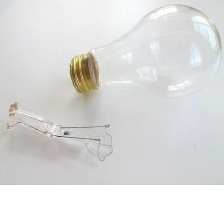light_bulb: (62, 1, 224, 105), (1, 100, 115, 163)
